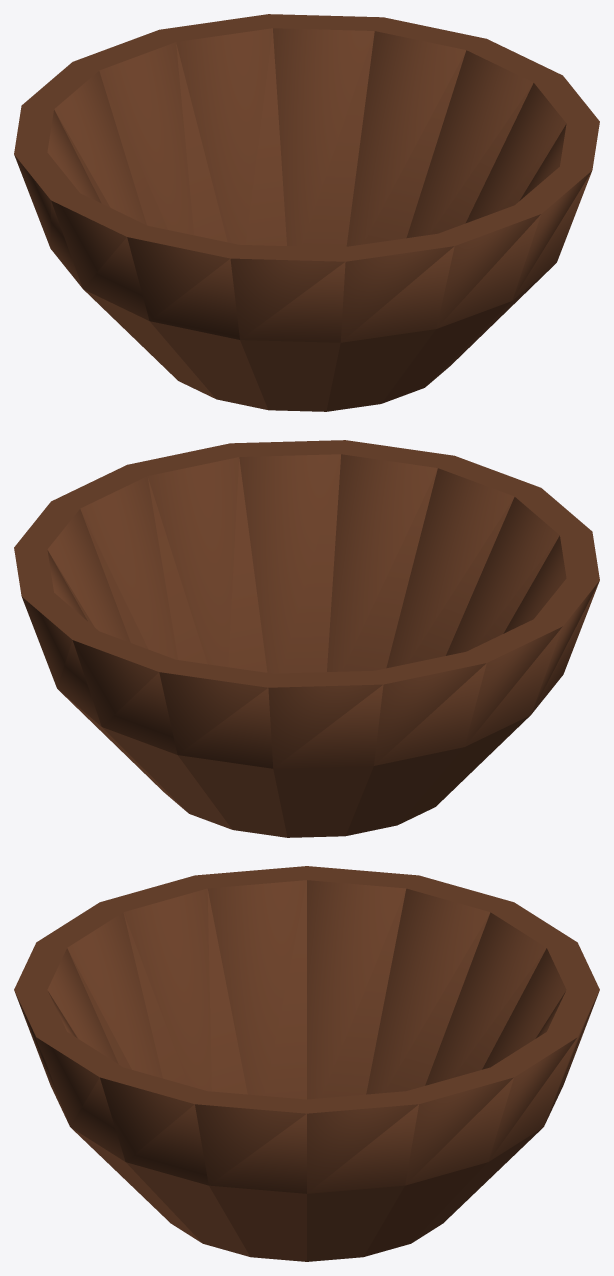
The model's file is prop_bowl.glb.
3 views of the same model, one above another, from view 1: azimuth 30°, elevation 25°; view 2: azimuth 150°, elevation 25°; view 3: azimuth 270°, elevation 25° (orthographic).
Visible parts, largest first — view 1: Props with out snow_Bowl_0; view 2: Props with out snow_Bowl_0; view 3: Props with out snow_Bowl_0.
Boxes of the visible parts, x1,y1,x2,y2 form: Props with out snow_Bowl_0: [14, 14, 599, 411]; Props with out snow_Bowl_0: [14, 440, 599, 837]; Props with out snow_Bowl_0: [14, 866, 599, 1261].
Bounding box in the file's own units: 0.6872 × 0.2716 × 0.6872.
